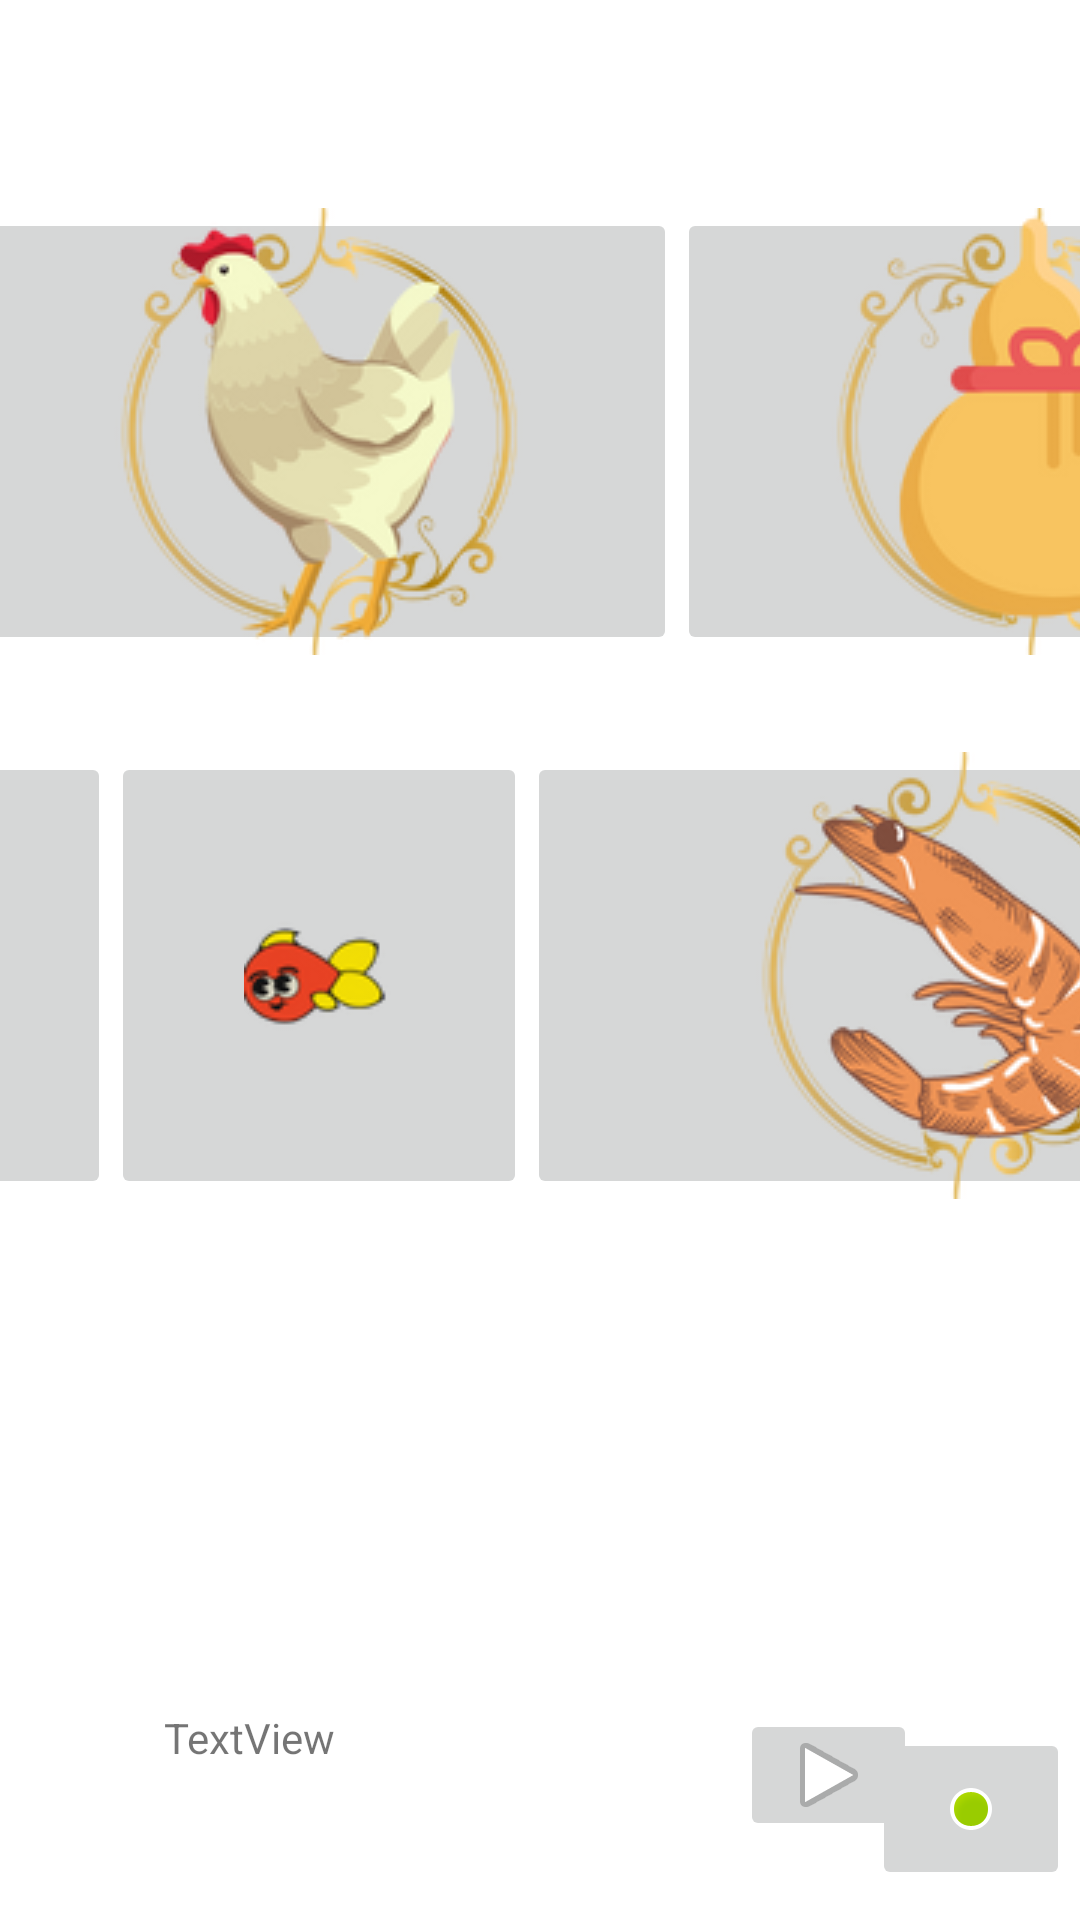

Icon click points for this 1080px×1920px phone screenshot, format point (x, y):
presence online: point (965, 1800)
